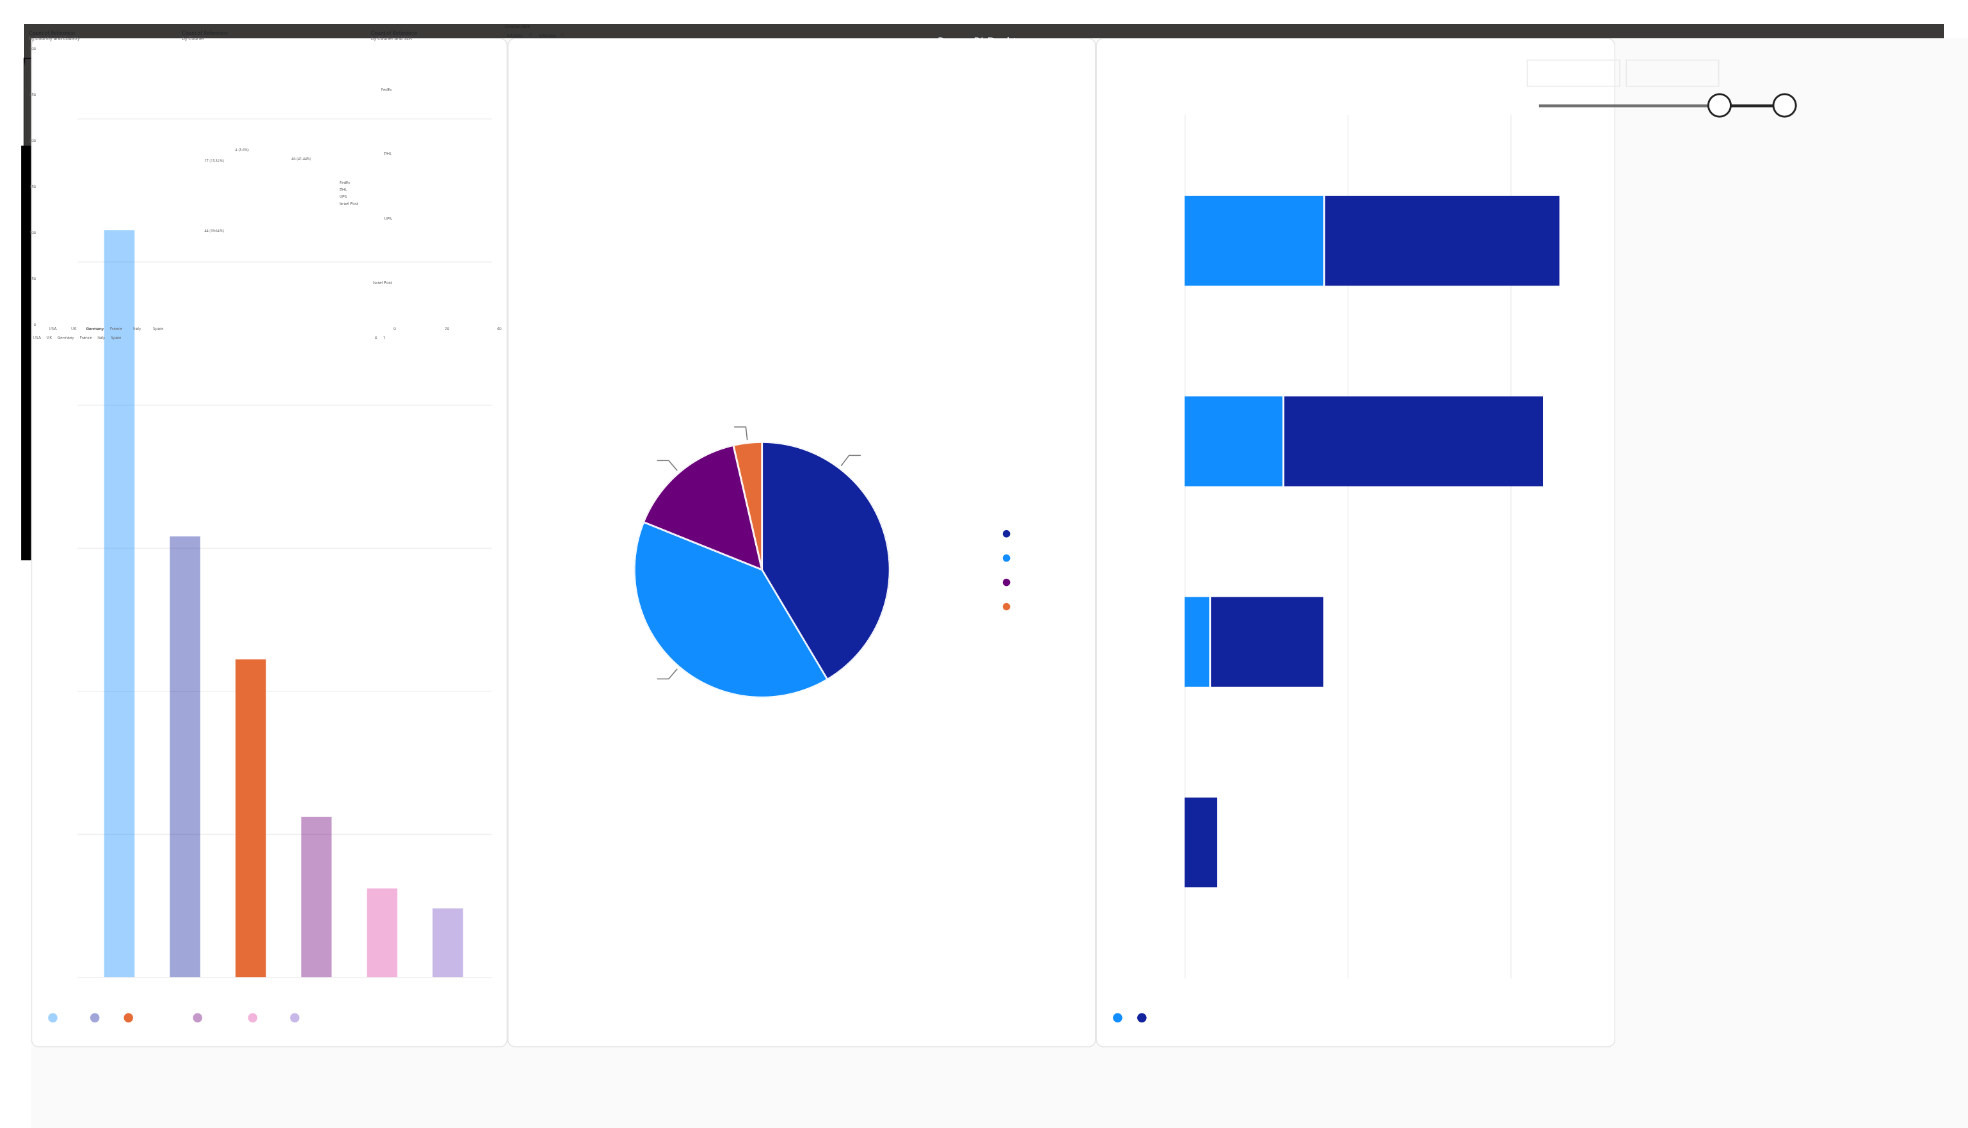

Layout of this report page (visuals, bound fields, positions):
{"tool":"powerbi","page":{"name":"Page 1","canvas":[1920,1080],"ordinal":0},"visuals":[{"type":"columnChart","fields":{"Category":["Fake_Master_Data_Realistic (2).Country"],"Series":["Fake_Master_Data_Realistic (2).Country"],"Y":["CountNonNull(Fake_Master_Data_Realistic (2).Reference)"]},"box":[0,0,510,1080],"z":0},{"type":"pieChart","fields":{"Category":["Fake_Master_Data_Realistic (2).Courier"],"Y":["CountNonNull(Fake_Master_Data_Realistic (2).Reference)"]},"box":[510,0,630,1080],"z":1000},{"type":"barChart","fields":{"Y":["CountNonNull(Fake_Master_Data_Realistic (2).Reference)"],"Series":["Fake_Master_Data_Realistic (2).SLA"],"Category":["Fake_Master_Data_Realistic (2).Courier"]},"box":[1140,0,556,1080],"z":2000},{"type":"slicer","fields":{"Values":["Master_Data_Combined_Cleaned (3).Creation date"]},"box":[1592.5,0,300,300],"z":3000}]}

Visuals, with their boxes on the page's 1920x1080 design canvas (x1, y1, x2, y2). These are canvas units, not pixel positions in the 1968x1128 screenshot, which may show the page scaled, cropped or inside an application window:
columnChart - Fake_Master_Data_Realistic (2).Country x Fake_Master_Data_Realistic (2).Country: <bbox>0, 0, 510, 1080</bbox>
pieChart - Fake_Master_Data_Realistic (2).Courier x CountNonNull(Fake_Master_Data_Realistic (2).Reference): <bbox>510, 0, 1140, 1080</bbox>
barChart - CountNonNull(Fake_Master_Data_Realistic (2).Reference) x Fake_Master_Data_Realistic (2).SLA: <bbox>1140, 0, 1696, 1080</bbox>
slicer - Master_Data_Combined_Cleaned (3).Creation date: <bbox>1592, 0, 1892, 300</bbox>
